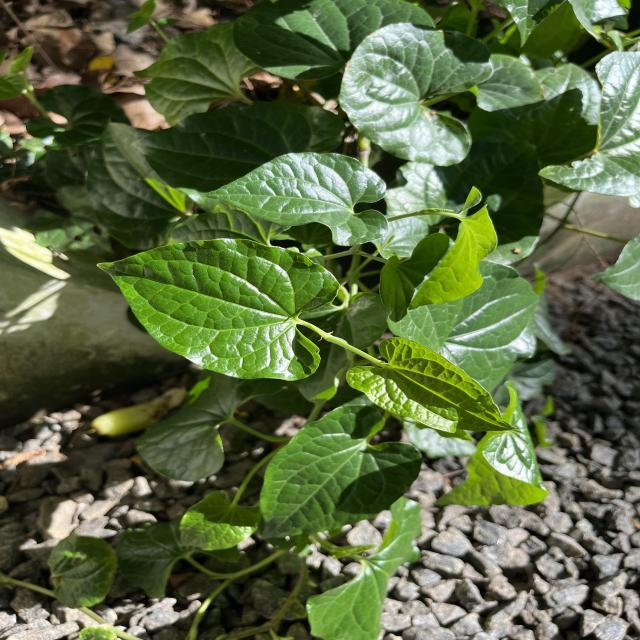Piper longum: (94, 235, 342, 384), (343, 333, 529, 435), (201, 150, 393, 248)
